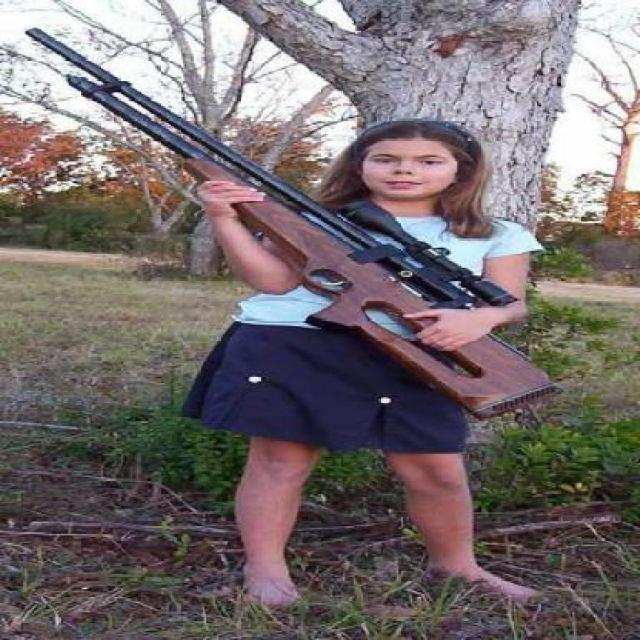weapon: (25, 26, 562, 422)
